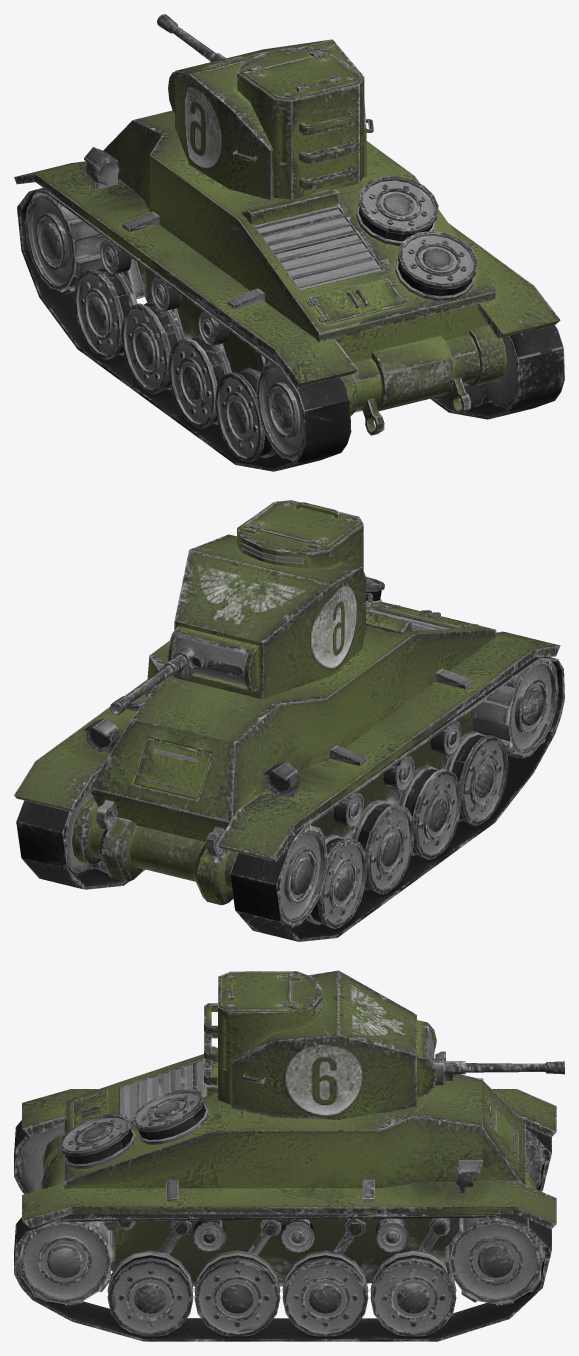
The model's file is tank_model.glb.
The picture shows the model from 3 angles, top to bottom: view 1: azimuth 30°, elevation 25°; view 2: azimuth 150°, elevation 25°; view 3: azimuth 270°, elevation 25°; orthographic projection. The views are drawn at different scales.
Parts seen in each view (by area): view 1: Cylinder.011; view 2: Cylinder.011; view 3: Cylinder.011.
Boxes of the visible parts, x1=… form: Cylinder.011: x1=14, y1=14, x2=564, y2=471; Cylinder.011: x1=14, y1=500, x2=564, y2=941; Cylinder.011: x1=14, y1=970, x2=564, y2=1341.
Size of the model in its own units: 5.29 by 6.17 by 10.4.
Materials: 1 (1 with a texture image).
